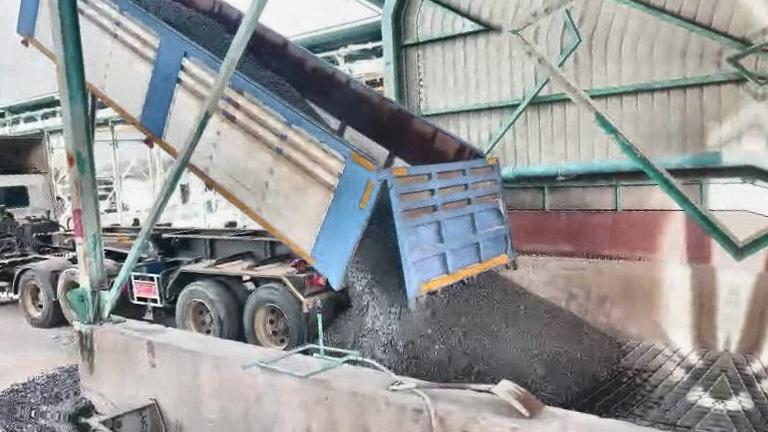gravel: (326, 199, 622, 405), (119, 0, 231, 58), (239, 51, 325, 123), (0, 366, 92, 417)
